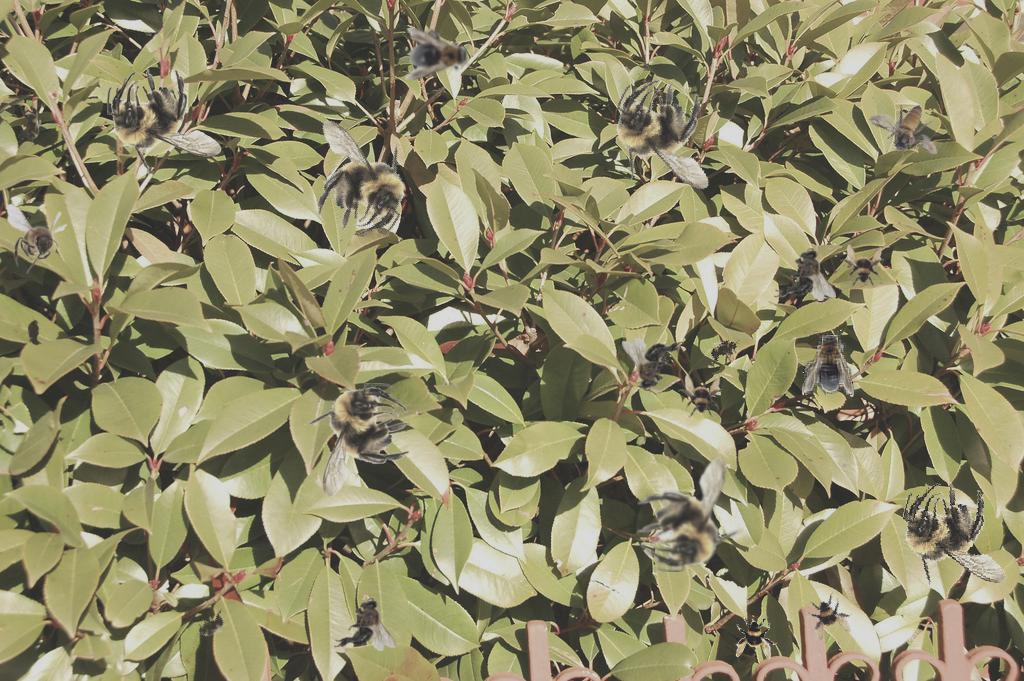Bee: (279, 101, 434, 254), (592, 65, 741, 210), (888, 473, 1024, 604), (304, 383, 411, 498), (107, 68, 222, 175), (637, 457, 744, 572), (867, 87, 951, 174), (7, 204, 68, 274), (405, 28, 473, 80), (802, 329, 854, 397), (801, 588, 859, 646), (774, 248, 836, 301), (334, 598, 396, 651), (622, 338, 684, 391), (678, 374, 722, 418), (840, 244, 884, 288), (734, 616, 778, 660), (188, 606, 234, 646), (701, 331, 747, 369), (24, 312, 46, 352), (20, 107, 42, 147)
